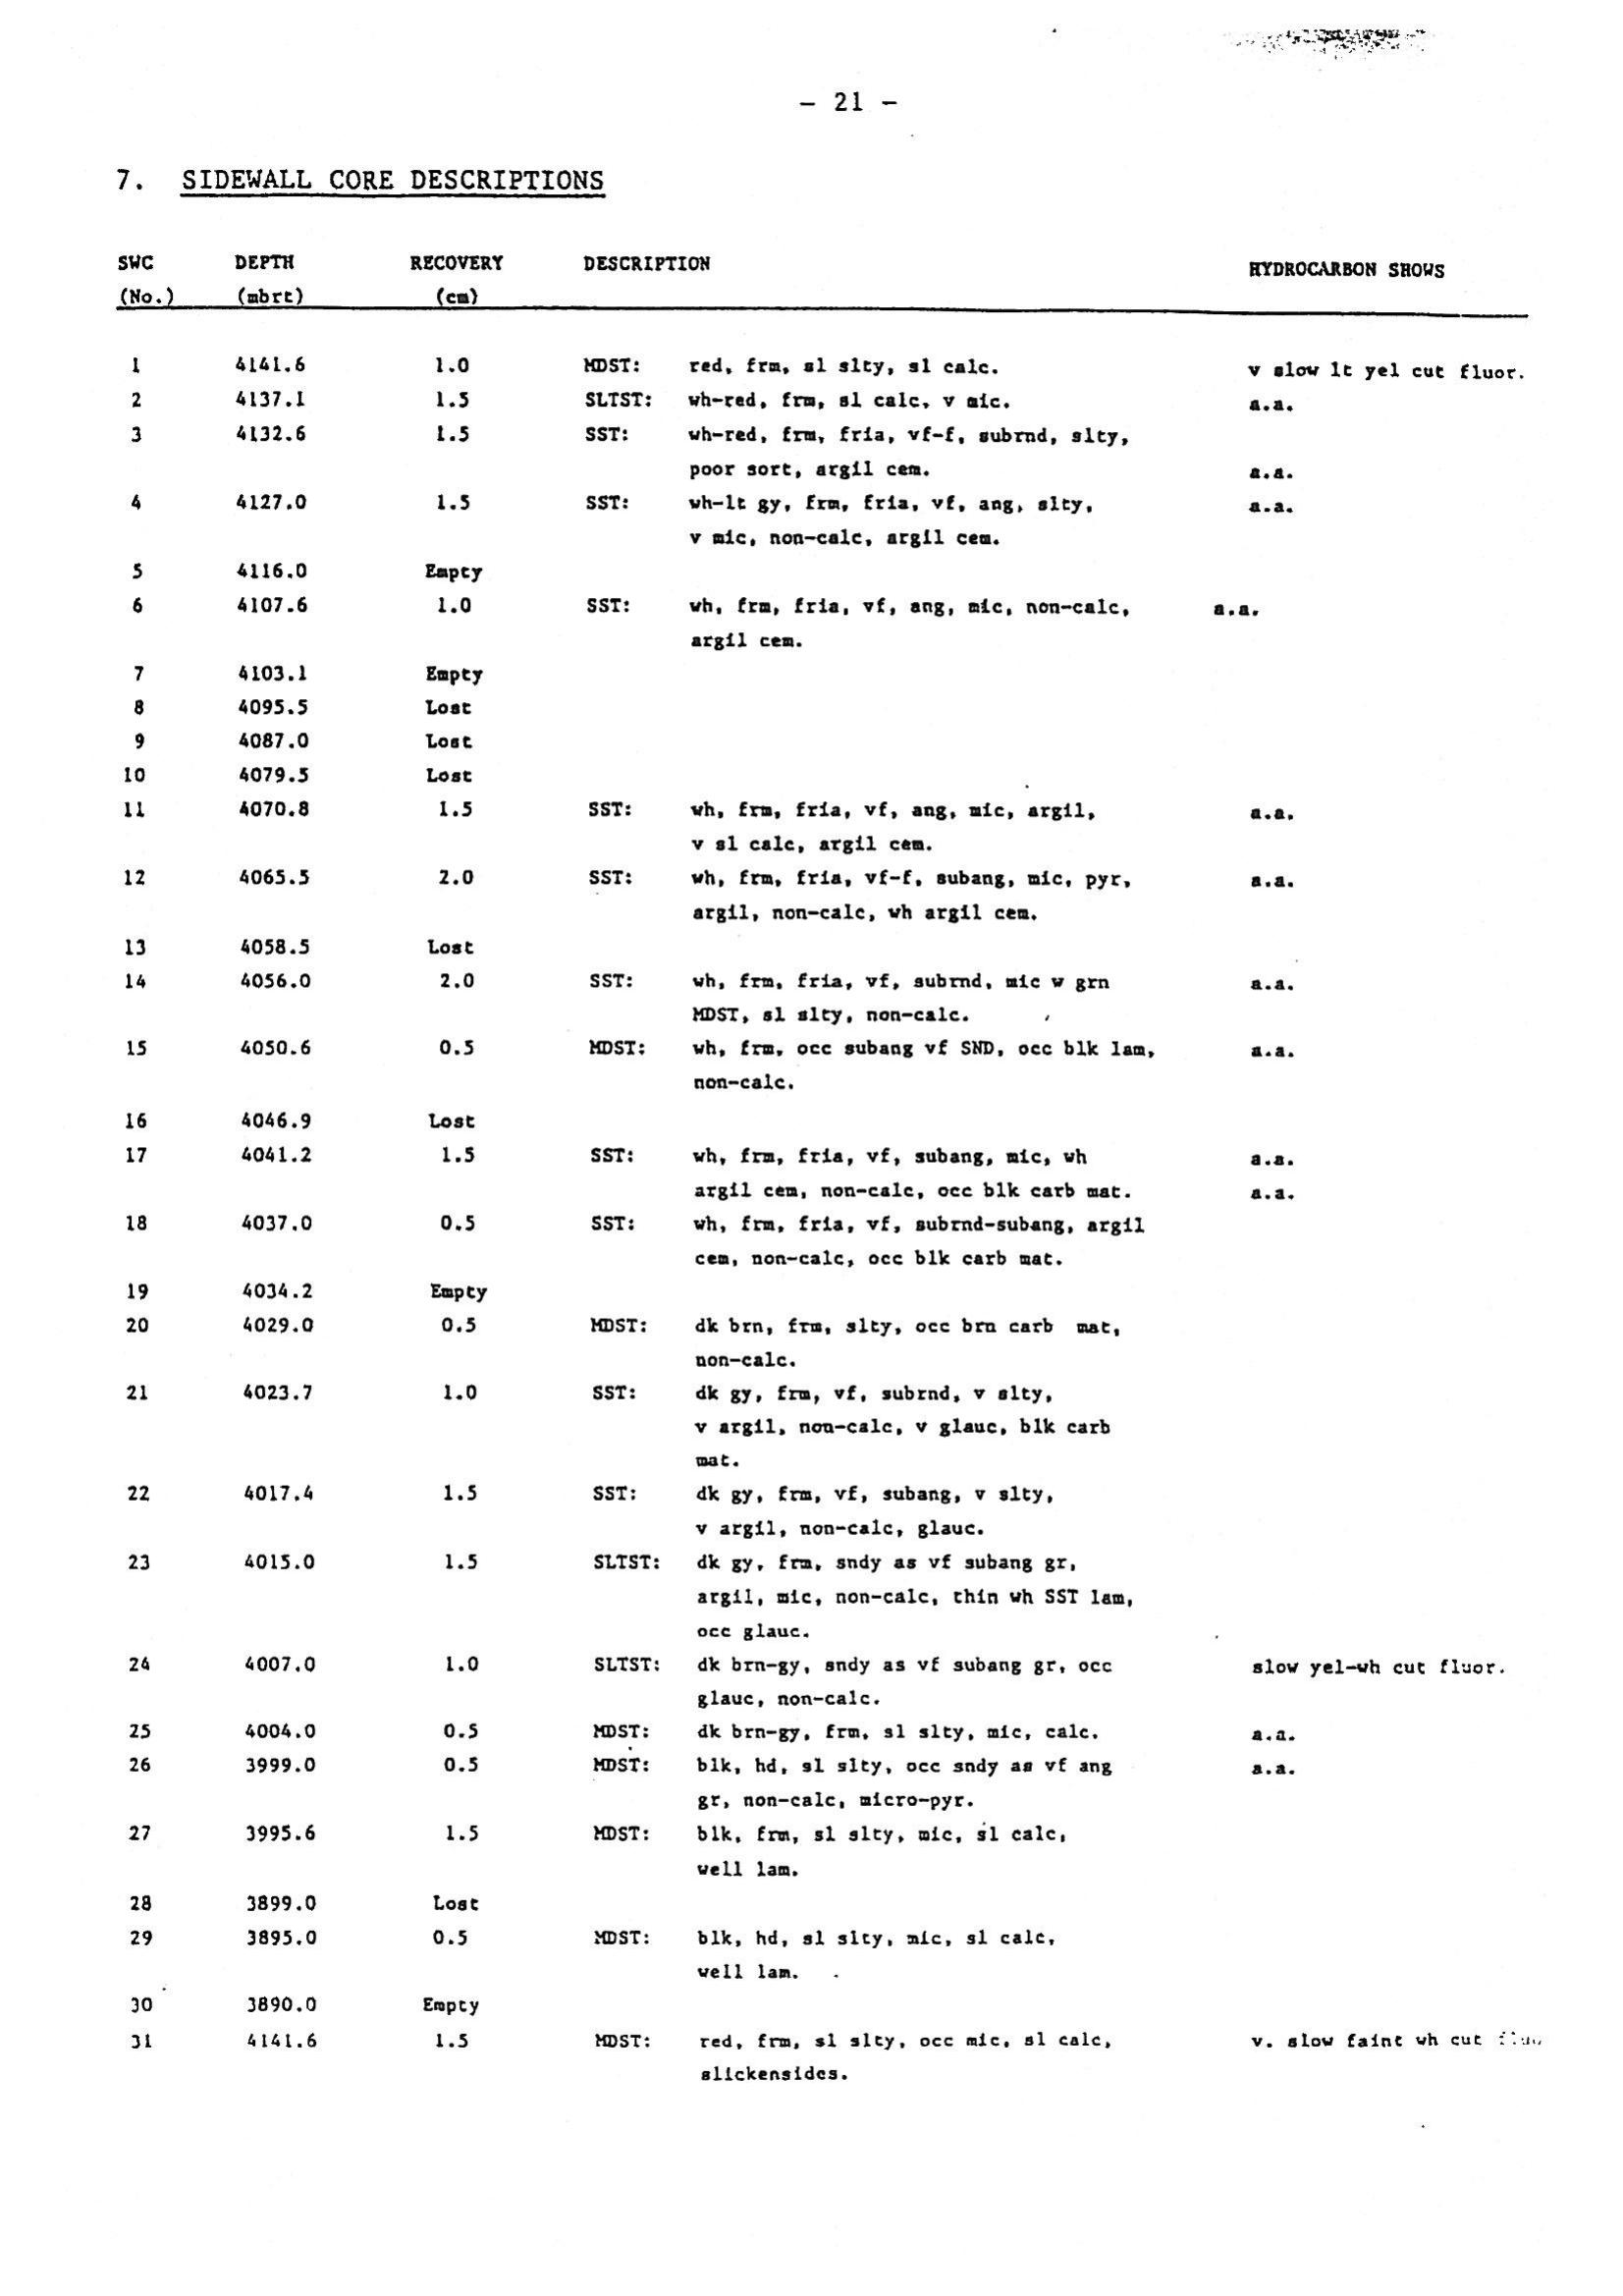table: (70, 141, 1576, 2140)
